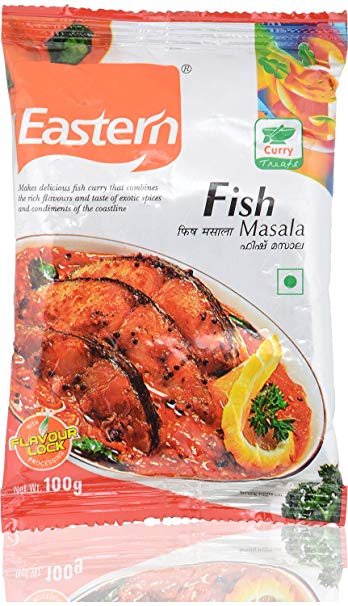VEG: (276, 267, 305, 297)
